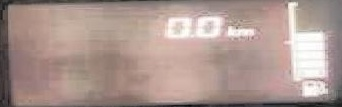-: (187, 32, 193, 38)
0: (193, 14, 220, 37), (162, 14, 187, 37)
X: (225, 23, 236, 36), (236, 27, 254, 34)
